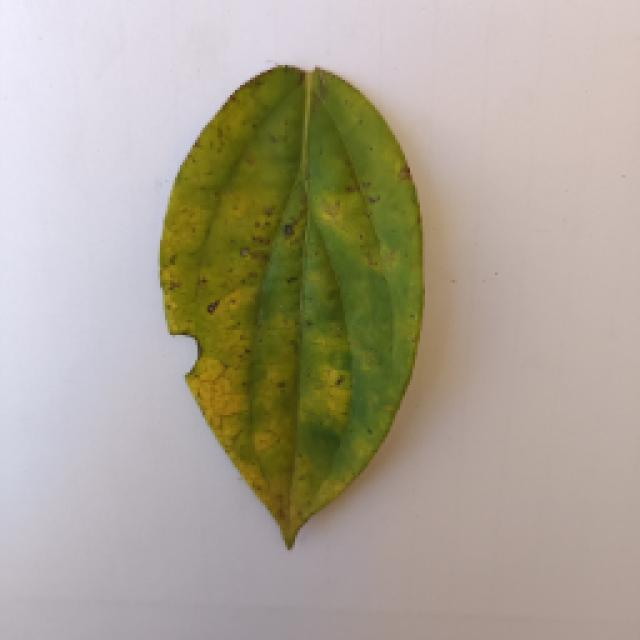slow-decline: (148, 60, 428, 538)
